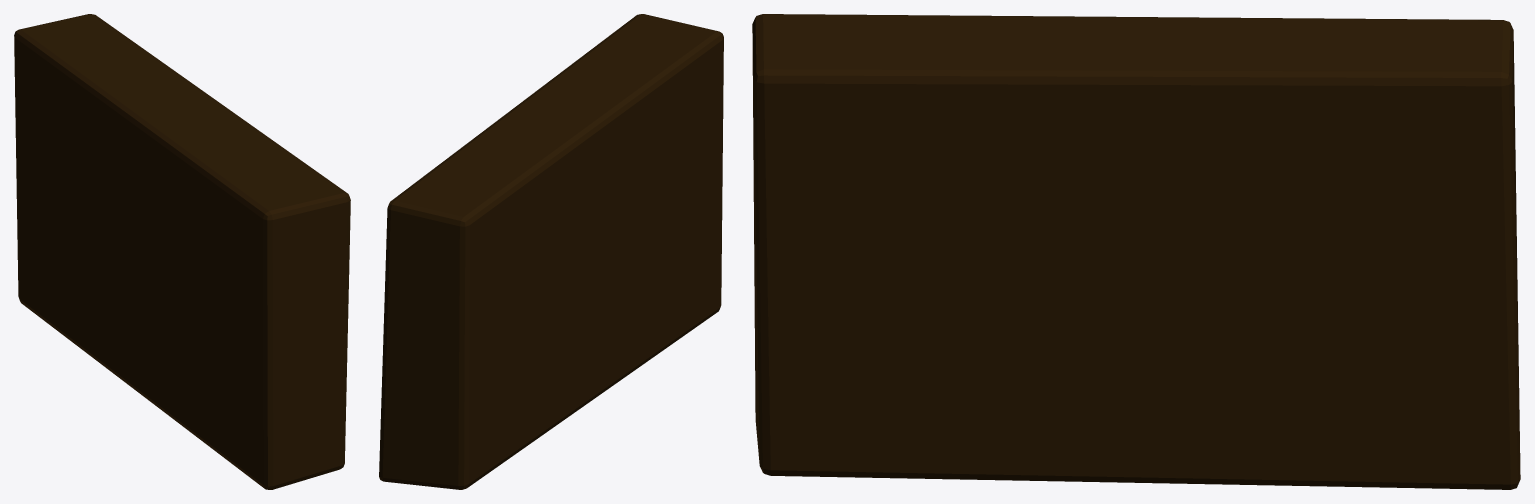
File: Wall piece 13 collider.fbx
3 views of the same model, side by side, from view 1: azimuth 30°, elevation 25°; view 2: azimuth 150°, elevation 25°; view 3: azimuth 270°, elevation 25° (orthographic). The views are drawn at different scales.
Visible parts, largest first — view 1: wall piece 13 collider; view 2: wall piece 13 collider; view 3: wall piece 13 collider.
Part boxes in pixels (bbox=[...]): wall piece 13 collider: bbox=[14, 14, 350, 489]; wall piece 13 collider: bbox=[379, 14, 723, 489]; wall piece 13 collider: bbox=[752, 14, 1520, 489].
Size of the model in its own units: 144 by 720 by 433.
